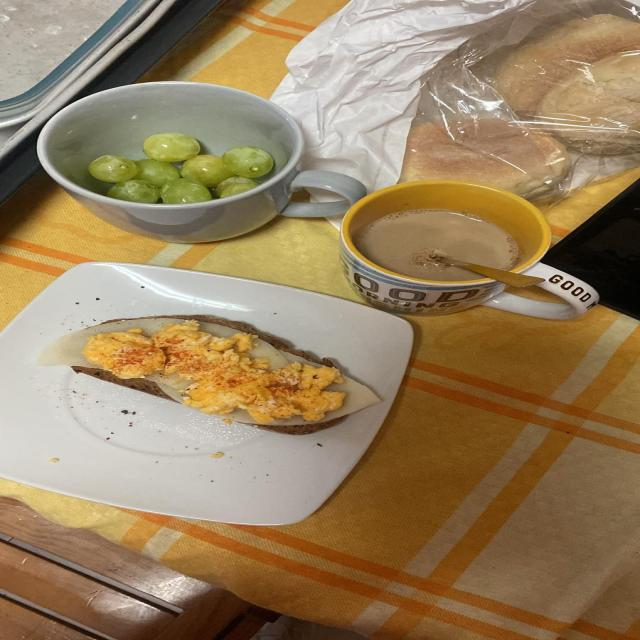coffee: (358, 209, 517, 279)
coffee cup: (339, 181, 597, 318), (430, 253, 542, 288)
cup: (36, 82, 304, 243)
grape: (88, 133, 274, 205)
plate: (0, 262, 413, 526)
scrambled eggs: (82, 320, 343, 424)
toasted bread: (50, 315, 346, 402), (223, 377, 379, 434)
